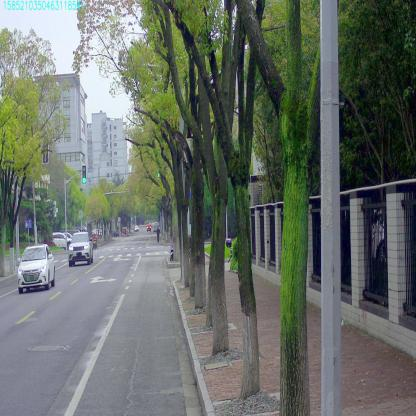traffic-light: (82, 165, 86, 184), (157, 168, 160, 178)
